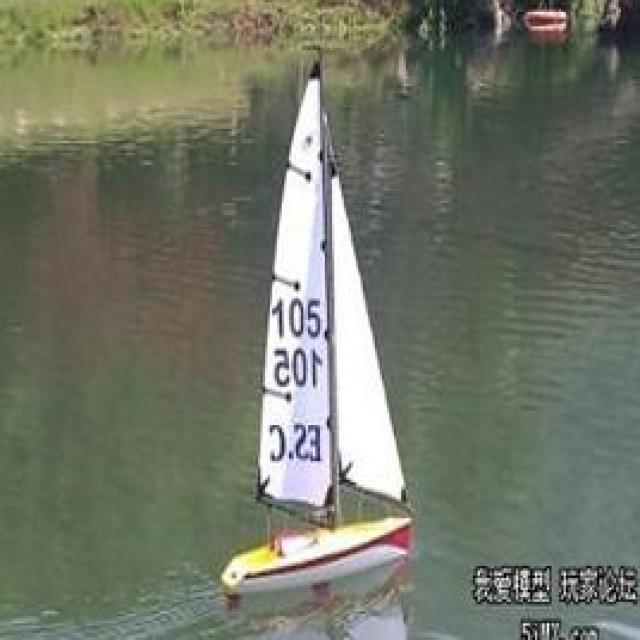sailboat: (190, 55, 440, 598)
